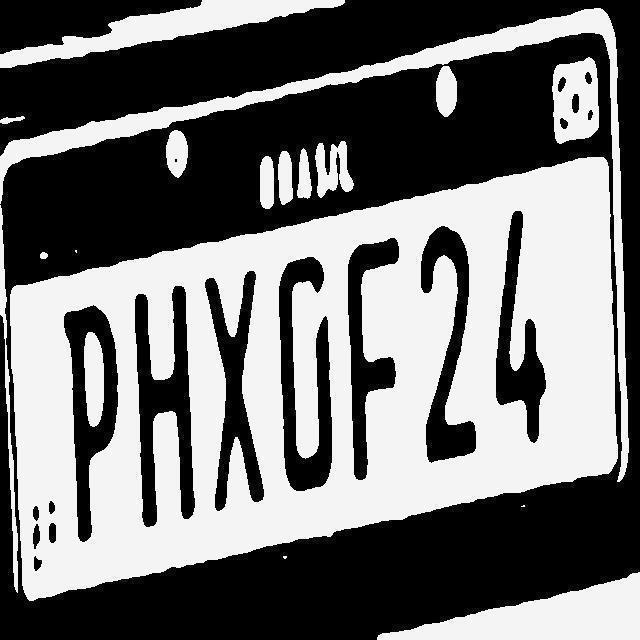0: (272, 253, 342, 498)
2: (416, 212, 484, 468)
4: (488, 203, 560, 456)
f: (337, 228, 409, 491)
h: (129, 284, 196, 534)
p: (55, 305, 132, 548)
x: (203, 262, 280, 510)
